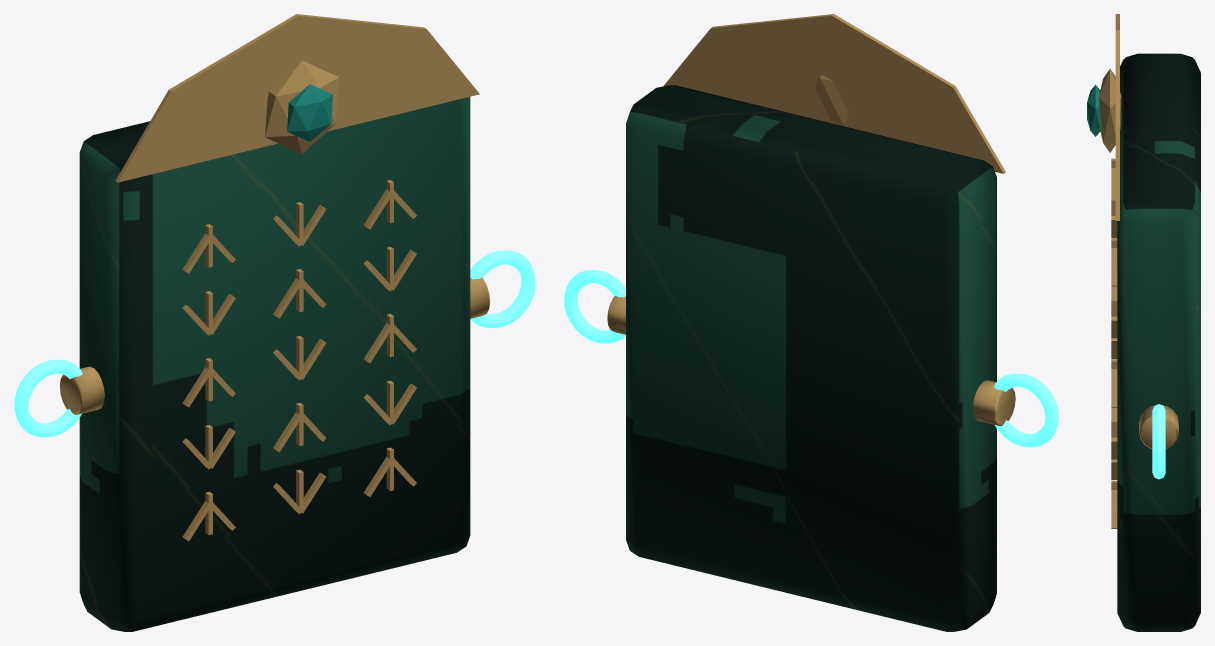
File: inscribed_stele_pattern_jade.fbx
3 renders of one model, left to right at view 1: azimuth 30°, elevation 25°; view 2: azimuth 150°, elevation 25°; view 3: azimuth 270°, elevation 25°, orthographic. The views are drawn at different scales.
Visible parts, largest first — view 1: Reviewed_inscribed_stele_Body.005, TH10_Stele_Handle.016, TH10_Stele_Handle.017; view 2: Reviewed_inscribed_stele_Body.005, TH10_Stele_Handle.016, TH10_Stele_Handle.017; view 3: Reviewed_inscribed_stele_Body.005, TH10_Stele_Handle.017.
Boxes of the visible parts, x1,y1,x2,y2 form: Reviewed_inscribed_stele_Body.005: (60, 14, 490, 631); TH10_Stele_Handle.016: (14, 359, 82, 437); TH10_Stele_Handle.017: (470, 250, 535, 328); Reviewed_inscribed_stele_Body.005: (607, 14, 1015, 631); TH10_Stele_Handle.016: (994, 373, 1058, 447); TH10_Stele_Handle.017: (564, 270, 625, 343); Reviewed_inscribed_stele_Body.005: (1087, 14, 1200, 631); TH10_Stele_Handle.017: (1152, 404, 1165, 479).
Size of the model in its own units: 0.488 by 0.525 by 0.1022.
Materials: 4 (1 with a texture image).
